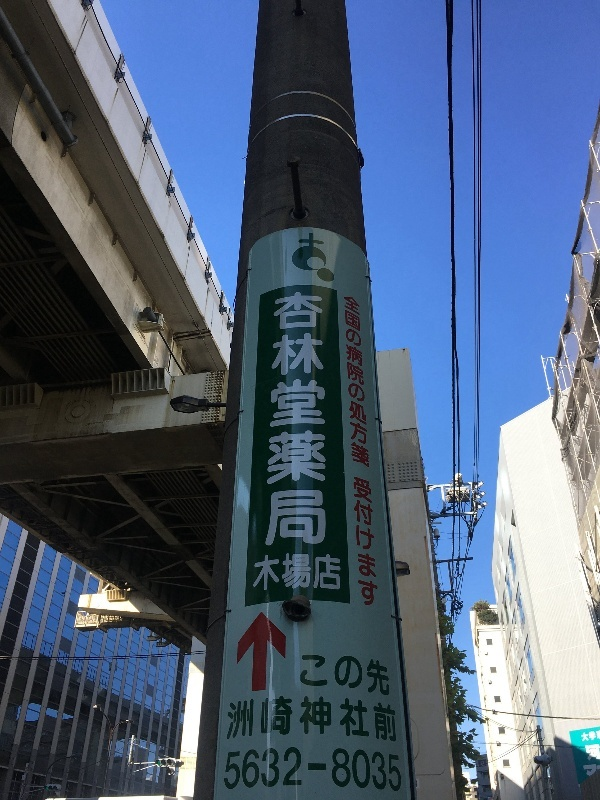text: (289, 290, 304, 547), (305, 290, 320, 547), (275, 290, 288, 547), (353, 293, 368, 468), (353, 476, 368, 607), (344, 293, 352, 468), (321, 290, 326, 547), (369, 476, 378, 607), (305, 651, 320, 699), (321, 651, 336, 699), (337, 651, 352, 699), (353, 651, 368, 699), (369, 651, 384, 699), (241, 697, 256, 743), (257, 697, 272, 743), (273, 697, 288, 743), (289, 697, 304, 743), (305, 697, 320, 743), (321, 697, 336, 743), (337, 697, 352, 743), (353, 697, 368, 743), (369, 697, 384, 743), (257, 553, 272, 596), (273, 553, 288, 596), (289, 553, 304, 596), (305, 553, 320, 596), (321, 553, 336, 596), (225, 750, 240, 793), (241, 750, 256, 793), (257, 750, 272, 793), (273, 750, 288, 793), (289, 750, 304, 793), (305, 750, 320, 793), (321, 750, 336, 793), (337, 750, 352, 793), (353, 750, 368, 793), (369, 750, 384, 793), (385, 750, 400, 793), (226, 697, 240, 743), (385, 697, 397, 743), (385, 651, 391, 699), (337, 553, 342, 596), (369, 293, 370, 468), (301, 651, 304, 699), (253, 553, 256, 596), (401, 750, 402, 793)
